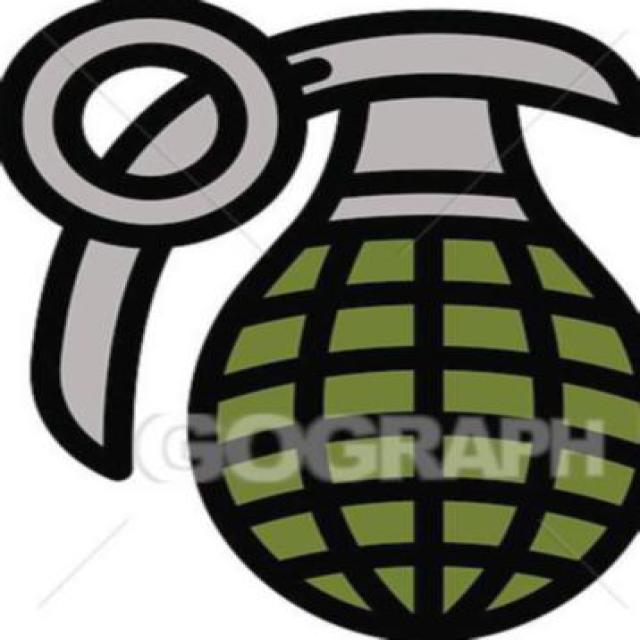grenade: (0, 0, 638, 639)
